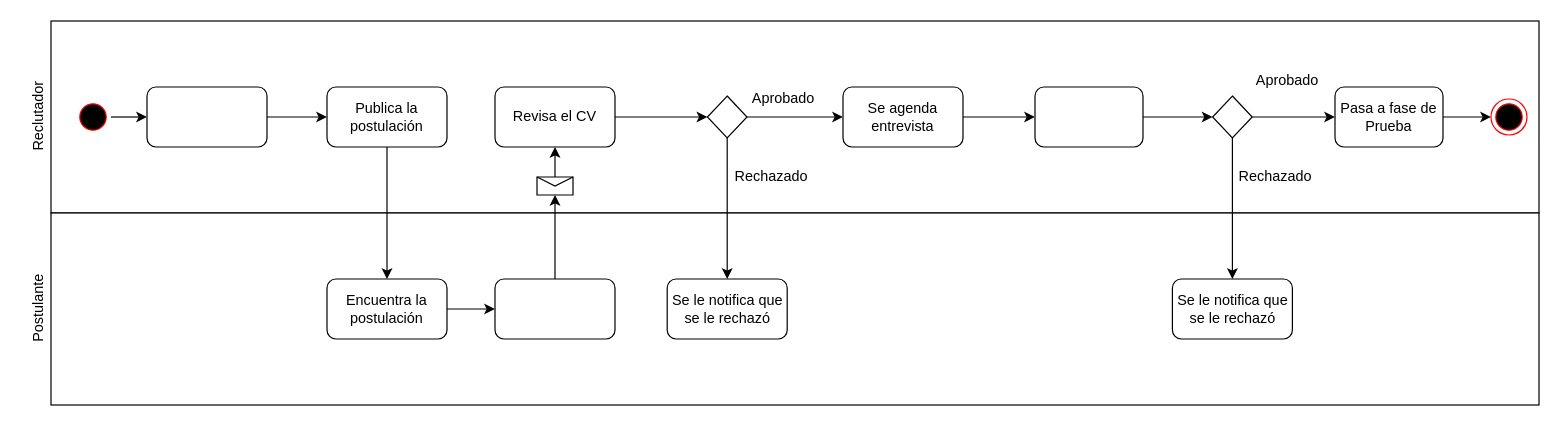
Image size: 1560x426. Some labels were removed from this diagram. The box of each missing label's shape, as (x1, y1, x2, y2) in pixels:
Crea postulación de trabajo: (146, 86, 267, 147)
Postula: (494, 278, 615, 339)
Se realiza la entrevista: (1034, 86, 1143, 147)
